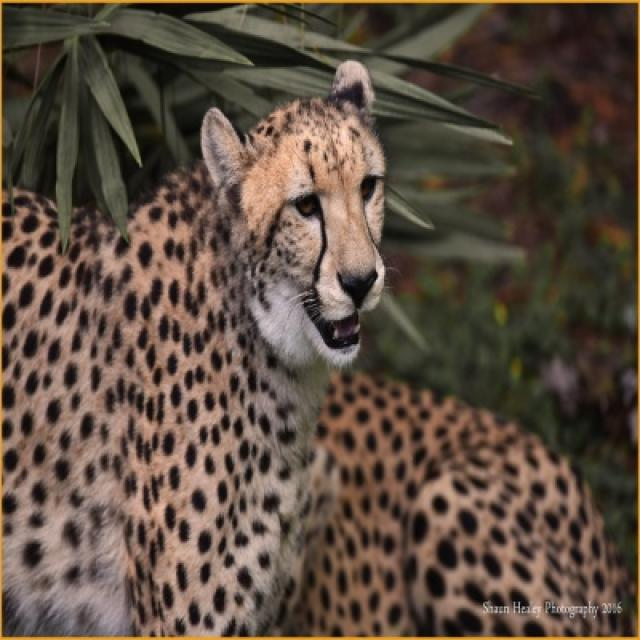Cheetah: (2, 61, 632, 638)
